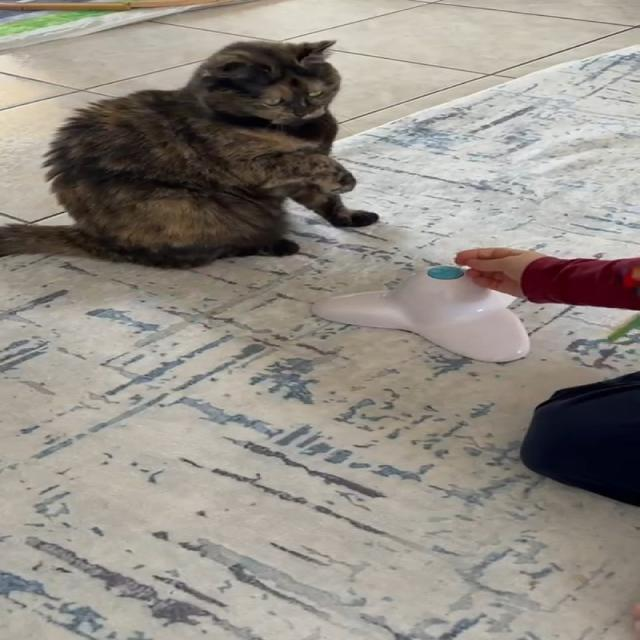authorized: (0, 38, 379, 270)
